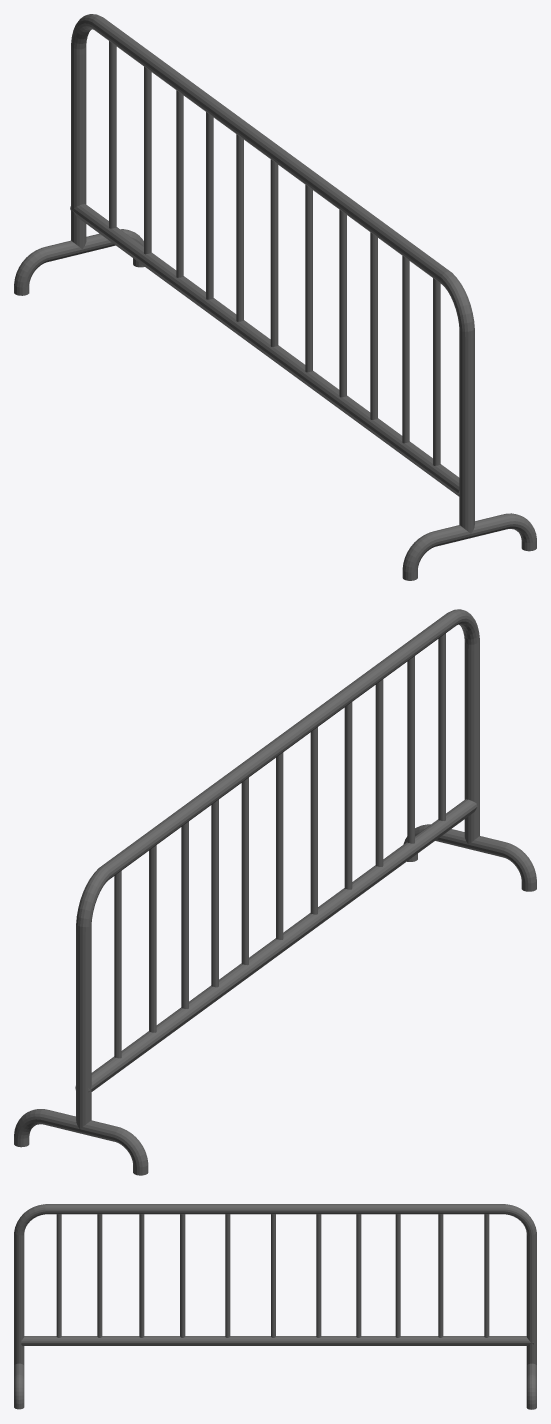
The model's file is SM_Barrier.fbx.
3 renders of one model, top to bottom at view 1: azimuth 30°, elevation 25°; view 2: azimuth 150°, elevation 25°; view 3: azimuth 270°, elevation 25°, orthographic. The views are drawn at different scales.
Parts seen in each view (by area): view 1: SM_Barrier; view 2: SM_Barrier; view 3: SM_Barrier.
Part boxes in pixels (x1,y1,x2,y2): SM_Barrier: [14, 14, 536, 580]; SM_Barrier: [14, 609, 536, 1175]; SM_Barrier: [14, 1204, 536, 1409].
Size of the model in its own units: 49.89 by 99.82 by 258.
Materials: 1 (1 with a texture image).
